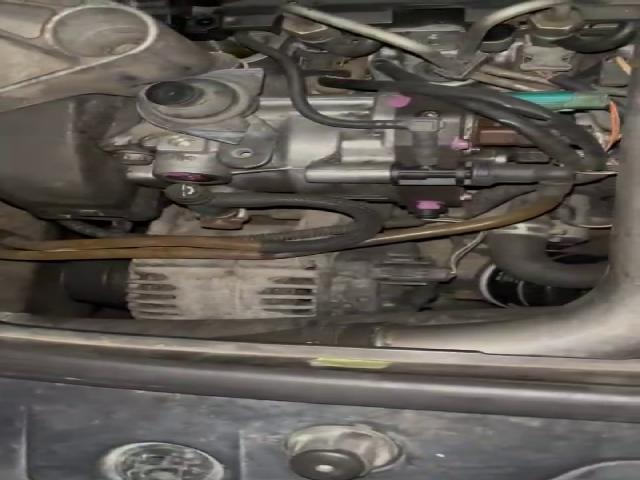alternator: (123, 240, 458, 320)
high_pressure_pump: (152, 87, 523, 219)
